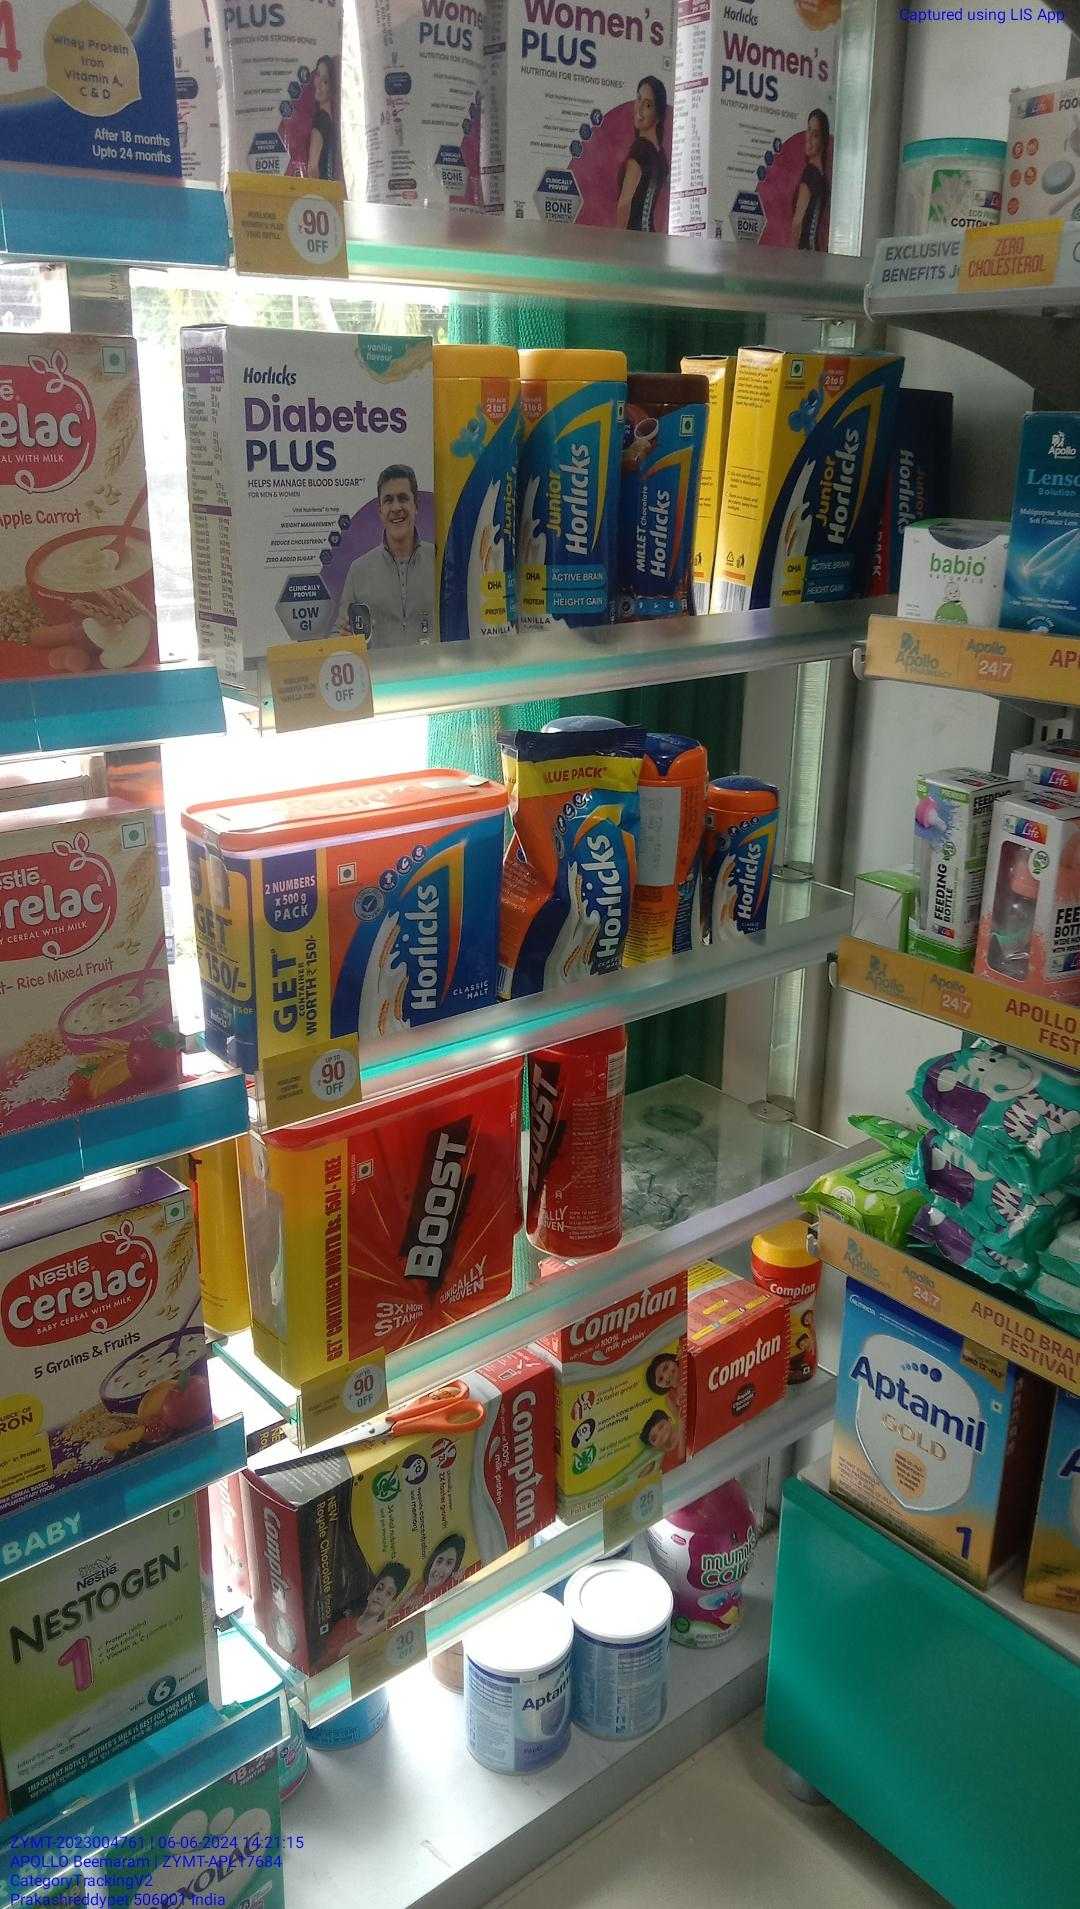COMPLAN_CHOCOLATE_500_GMS_JAR: (769, 1232, 820, 1391)
COMPLAN_PISTA_BADAM_500_GMS_PACK: (560, 1272, 688, 1524)
HORLICK_CHOCOLATE_500_G_JAR: (617, 374, 708, 615), (703, 775, 779, 956)
